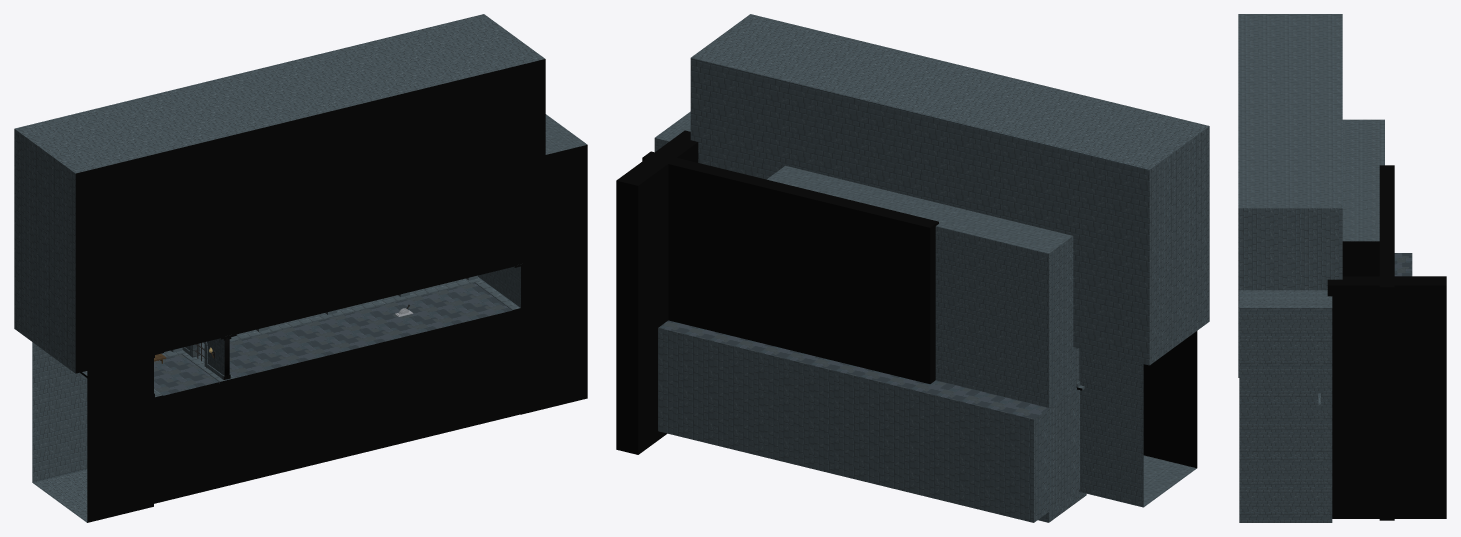
Rendered from Placeholder_3.fbx.
3 views of the same model, side by side, from view 1: azimuth 30°, elevation 25°; view 2: azimuth 150°, elevation 25°; view 3: azimuth 270°, elevation 25° (orthographic). The views are drawn at different scales.
Visible parts, largest first — view 1: ceiling4, floor, left, left1, wall_1, lining_13; view 2: ceiling4, floor, back1, back, left, back2; view 3: ceiling4, back2, left1, back, back1, floor.
Boxes of the visible parts, x1,y1,x2,y2 form: ceiling4: (14, 14, 545, 373); floor: (152, 283, 523, 504); left: (32, 342, 153, 522); left1: (478, 114, 587, 414); wall_1: (185, 338, 229, 379); lining_13: (374, 278, 478, 305); ceiling4: (690, 14, 1209, 365); floor: (658, 320, 1079, 522); back1: (642, 151, 938, 383); back: (767, 165, 1086, 522); left: (1079, 331, 1197, 507); back2: (616, 130, 698, 454); ceiling4: (1238, 14, 1342, 377); back2: (1327, 276, 1446, 518); left1: (1239, 290, 1332, 522); back: (1342, 119, 1384, 276); back1: (1379, 165, 1394, 520); floor: (1394, 253, 1412, 276).
Bounding box in the file's own units: 5624 × 3603 × 2217.
11 materials, 7 textured.
